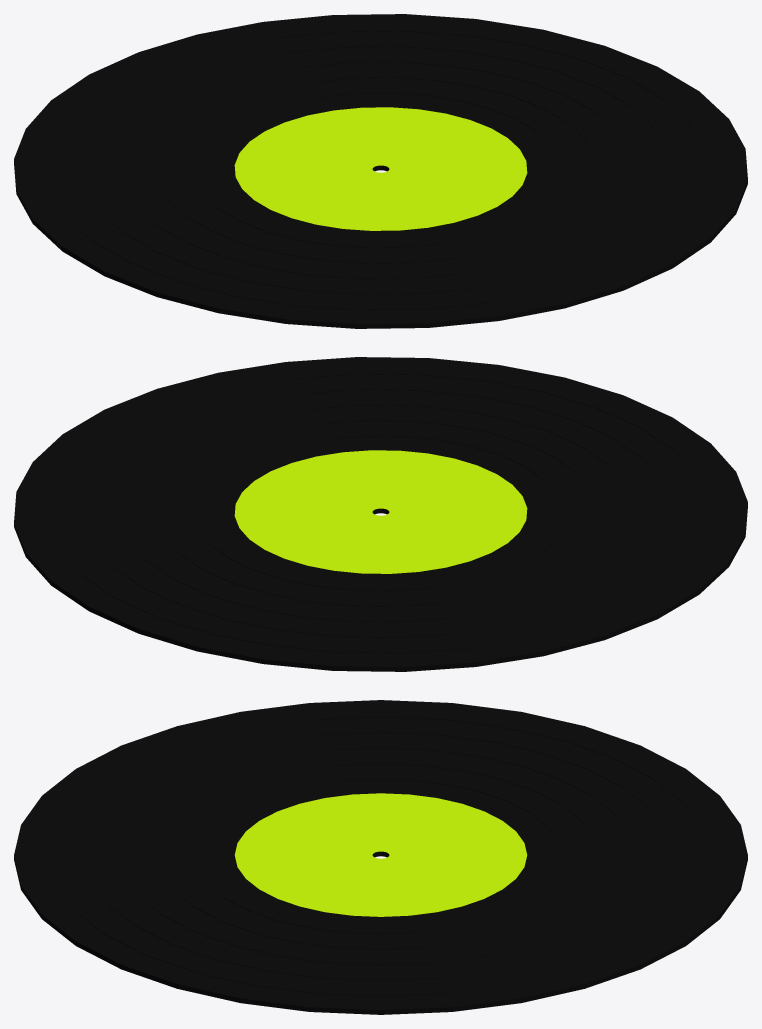
Rendered from Vinyl record 1.obj.
3 renders of one model, top to bottom at view 1: azimuth 30°, elevation 25°; view 2: azimuth 150°, elevation 25°; view 3: azimuth 270°, elevation 25°, orthographic.
Visible parts, largest first — view 1: Cylinder002; view 2: Cylinder002; view 3: Cylinder002.
Part boxes in pixels (box(x1,y1,x2,y2)): Cylinder002: box(14, 14, 747, 328); Cylinder002: box(14, 357, 747, 671); Cylinder002: box(14, 700, 747, 1014).
Bounding box in the file's own units: 803457 × 6331 × 803457.
